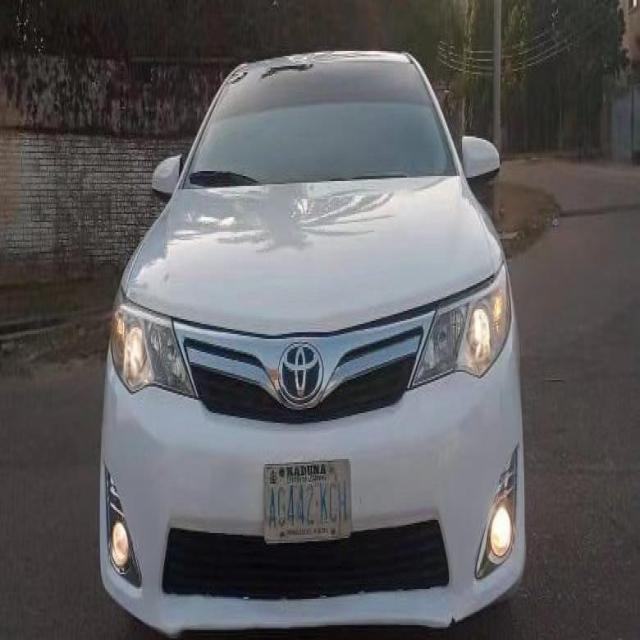Nigerian License Plate - vdataset benjamin-daria: (264, 461, 351, 541)
